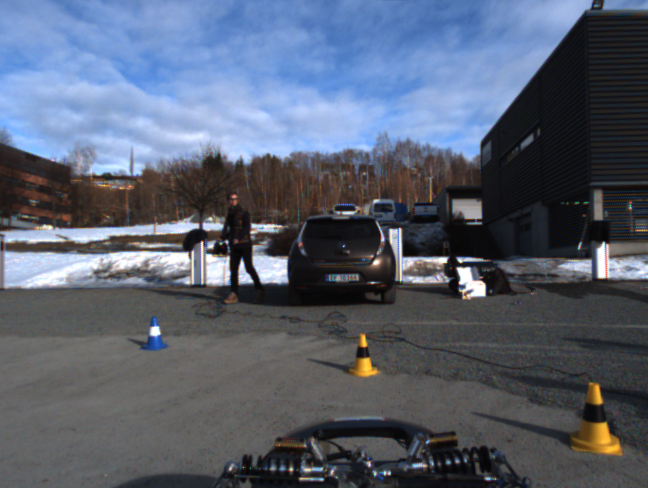cone-small-blue: (139, 317, 167, 350)
cone-small-yellow: (570, 381, 623, 457), (346, 333, 379, 376)
